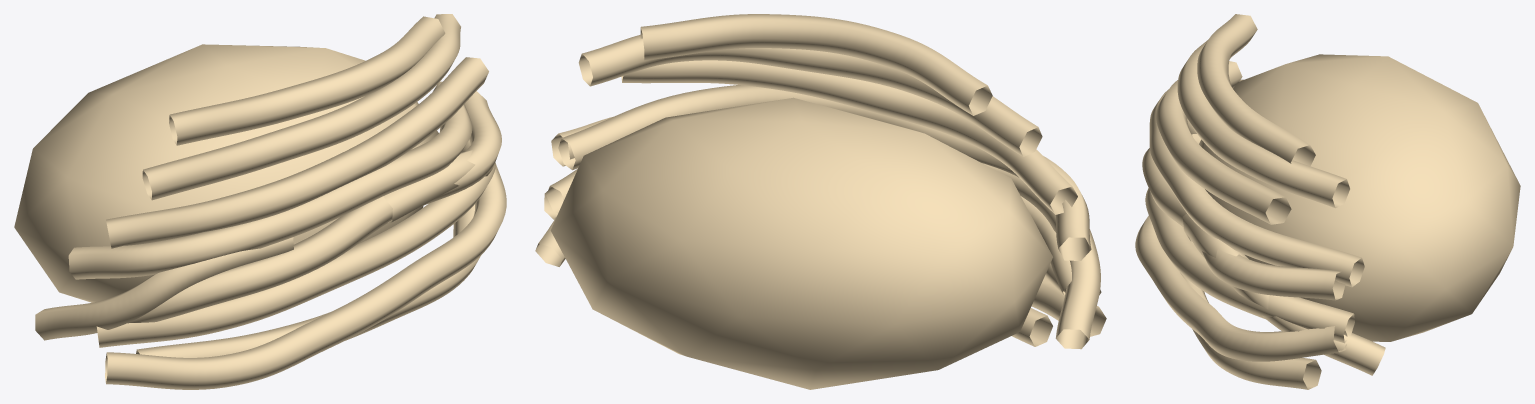
File: Noodle.fbx
The picture shows the model from 3 angles, left to right: view 1: azimuth 30°, elevation 25°; view 2: azimuth 150°, elevation 25°; view 3: azimuth 270°, elevation 25°; orthographic projection. The views are drawn at different scales.
Parts seen in each view (by area): view 1: Noodles; view 2: Noodles; view 3: Noodles.
Boxes of the visible parts, box(x1,y1,x2,y2) form: Noodles: box(14, 14, 506, 389); Noodles: box(535, 14, 1106, 389); Noodles: box(1135, 14, 1520, 389).
Bounding box in the file's own units: 161 × 80.55 × 113.
